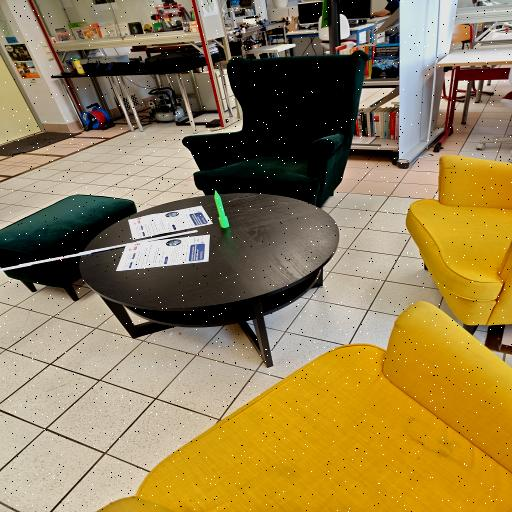Probe-Detection: (214, 191, 229, 228)
